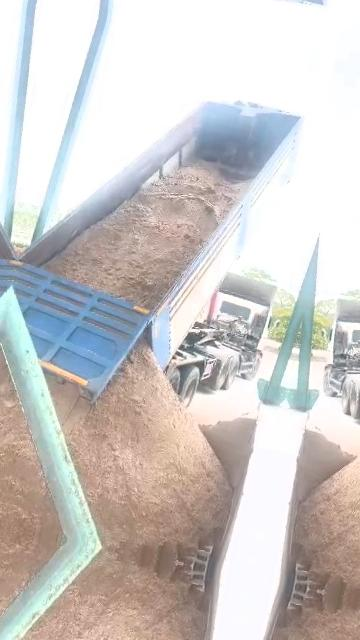sand: (49, 339, 230, 559), (42, 162, 247, 308), (0, 346, 59, 538), (200, 409, 256, 488)
